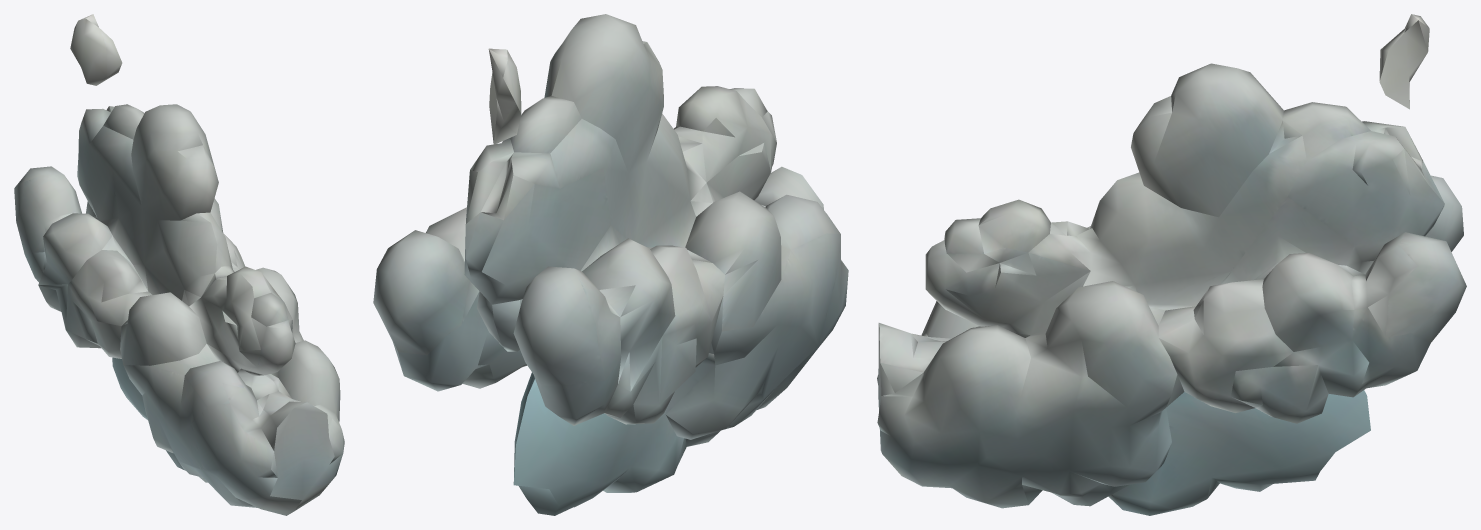
Rendered from m2CloudBank.glb.
3 views of the same model, side by side, from view 1: azimuth 30°, elevation 25°; view 2: azimuth 150°, elevation 25°; view 3: azimuth 270°, elevation 25° (orthographic). The views are drawn at different scales.
Parts seen in each view (by area): view 1: model; view 2: model; view 3: model.
Boxes of the visible parts, box(x1,y1,x2,y2) form: model: box(14, 14, 344, 515); model: box(373, 14, 848, 515); model: box(877, 14, 1466, 515).
Size of the model in its own units: 0.8014 by 1.76 by 1.91.
Materials: 1 (1 with a texture image).
